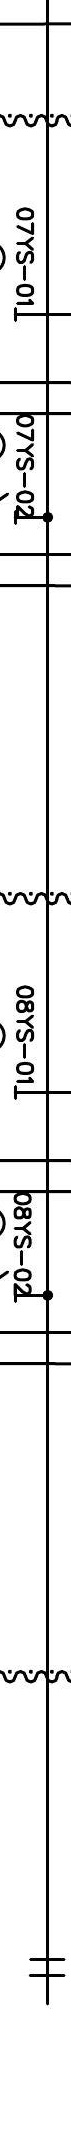115_buffer: (29, 1958, 66, 1977)
